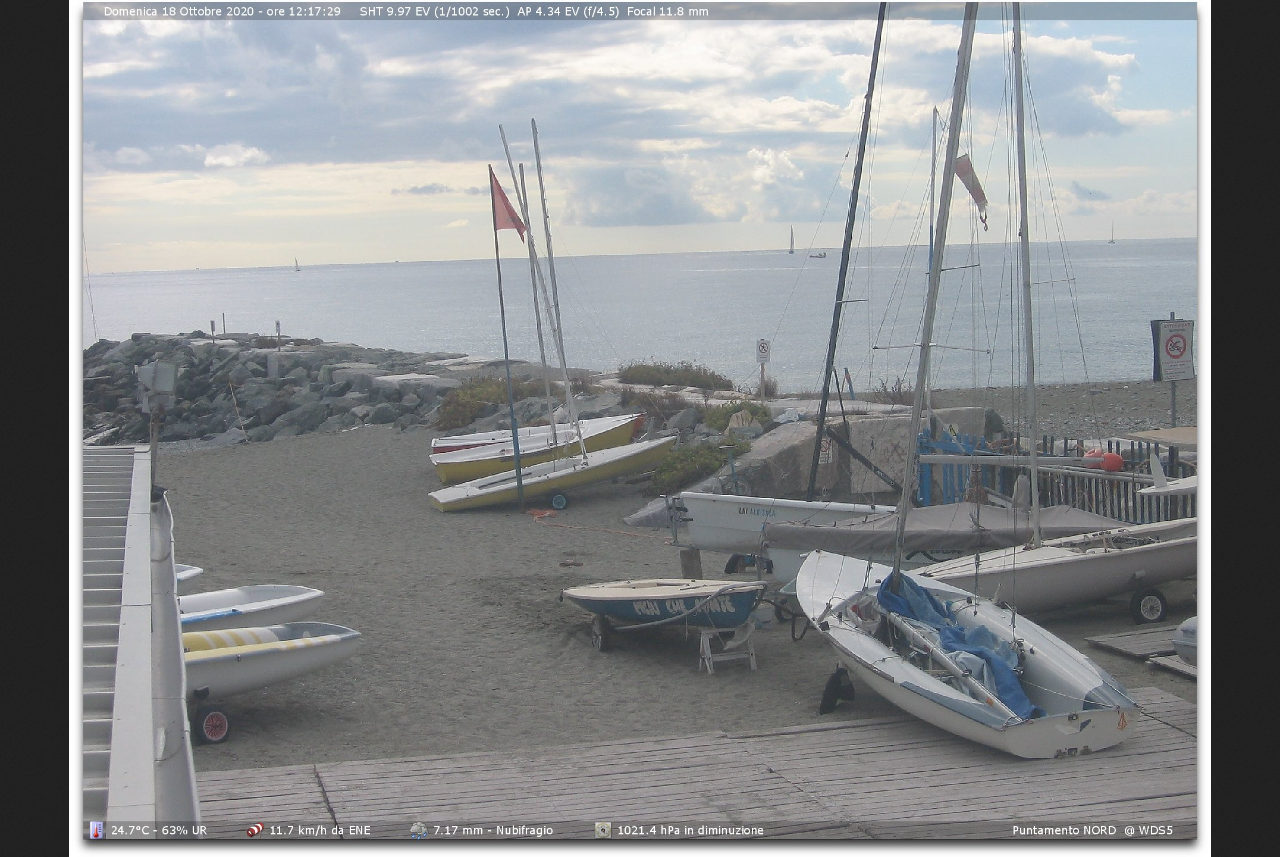maybe: (488, 165, 530, 242)
